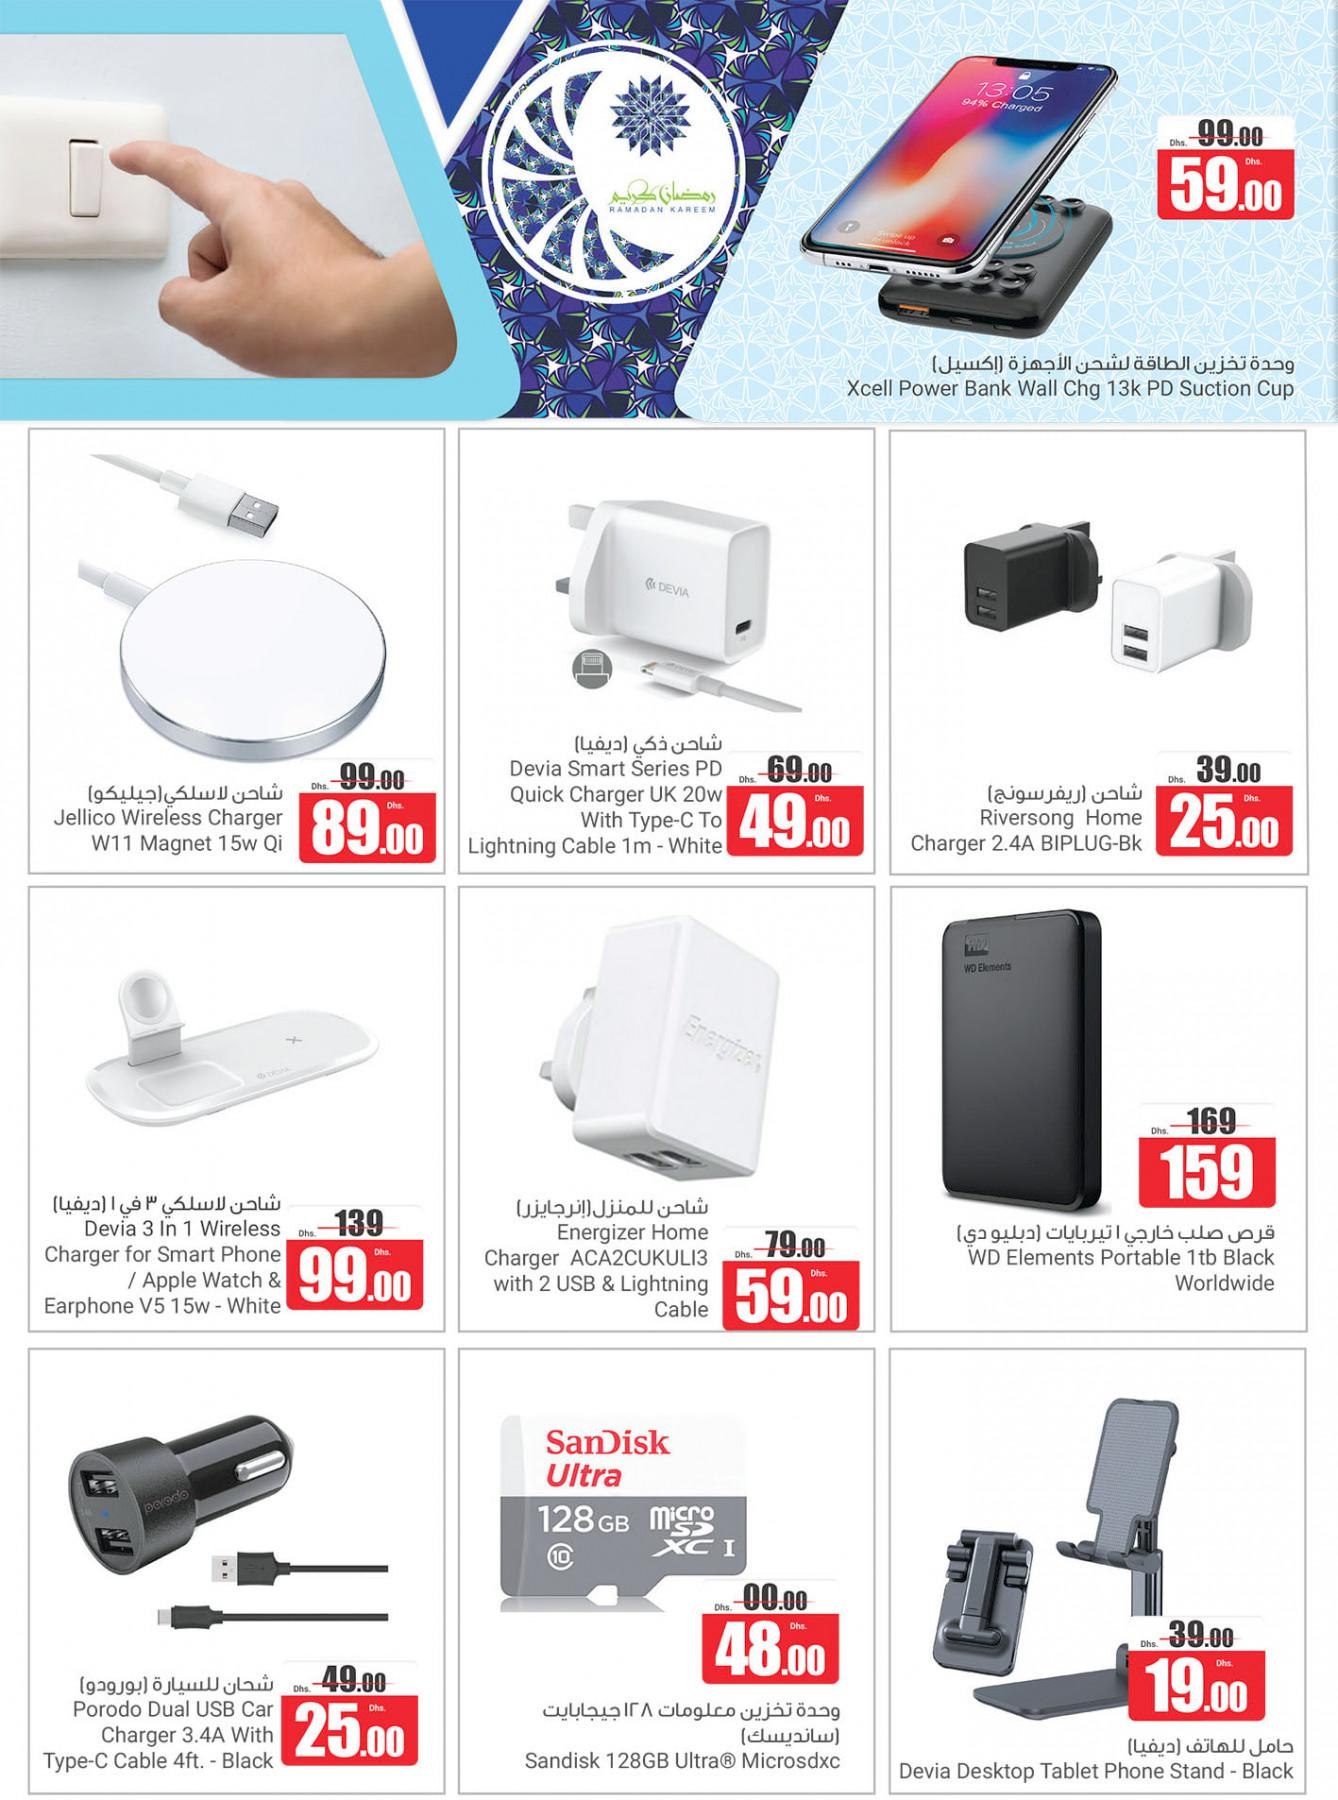text: (461, 719, 728, 868), (38, 1180, 285, 1326), (944, 1214, 1290, 1314), (836, 341, 1306, 415), (472, 1187, 717, 1324), (512, 1690, 855, 1780), (34, 1665, 280, 1786), (898, 757, 1150, 867), (892, 1728, 1301, 1792), (41, 774, 295, 866)
